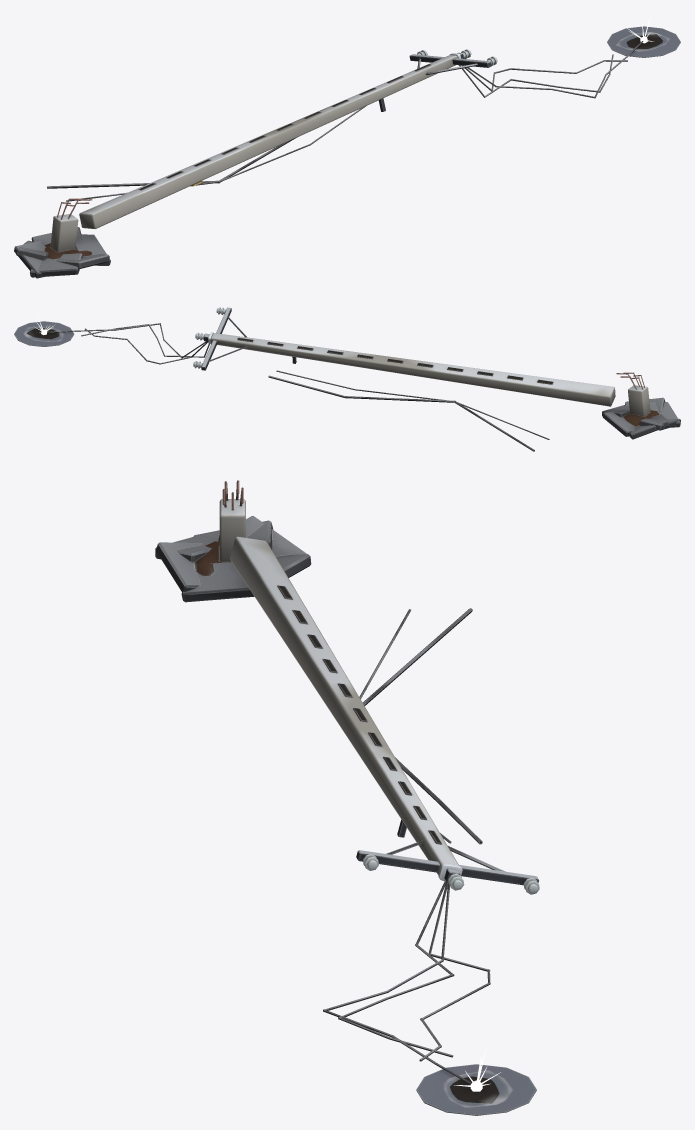
Rendered from pole_fallen.glb.
3 views of the same model, one above another, from view 1: azimuth 30°, elevation 25°; view 2: azimuth 150°, elevation 25°; view 3: azimuth 270°, elevation 25° (orthographic). The views are drawn at different scales.
Parts seen in each view (by area): view 1: pole_fallen; view 2: pole_fallen; view 3: pole_fallen.
Part boxes in pixels (<box>): pole_fallen: <box>14,26,680,278</box>; pole_fallen: <box>14,307,680,451</box>; pole_fallen: <box>155,480,539,1115</box>.
Size of the model in its own units: 13.64 by 1.09 by 3.82.
2 materials, 1 textured.
